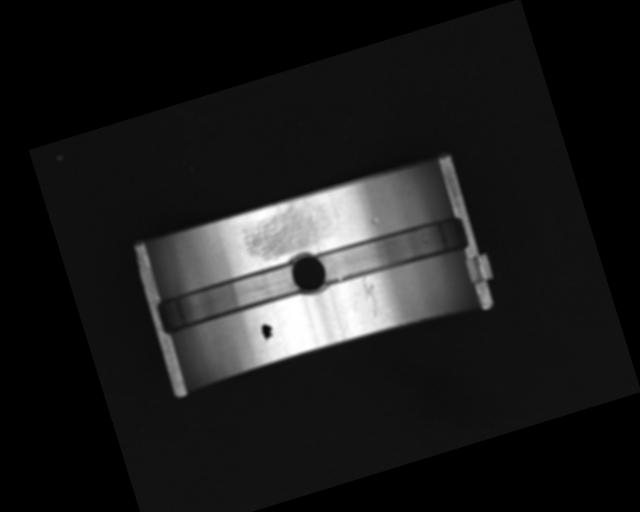blot: (258, 320, 277, 345)
bruise: (368, 215, 381, 227)
gap: (313, 209, 468, 293), (154, 259, 303, 336)
hole: (286, 248, 332, 300)
nick: (358, 274, 384, 321)
scratch: (235, 191, 338, 266)
